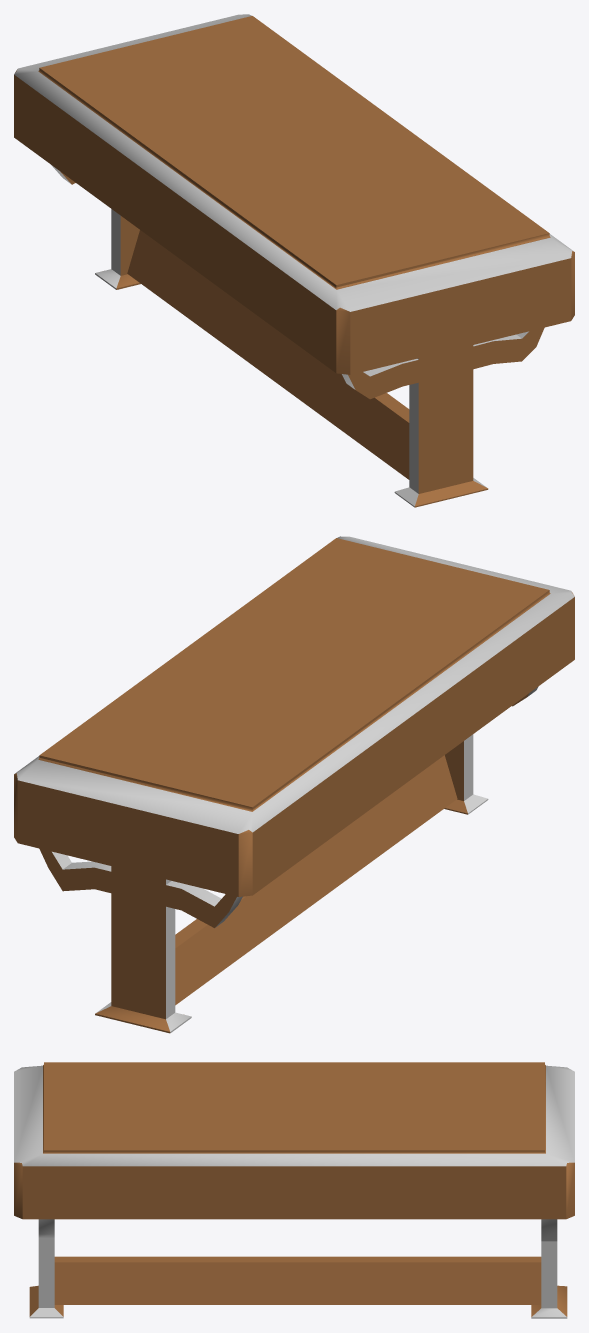
Rendered from Table.fbx.
3 renders of one model, top to bottom at view 1: azimuth 30°, elevation 25°; view 2: azimuth 150°, elevation 25°; view 3: azimuth 270°, elevation 25°, orthographic. The views are drawn at different scales.
Parts seen in each view (by area): view 1: Table; view 2: Table; view 3: Table.
Boxes of the visible parts, x1,y1,x2,y2 form: Table: (14, 14, 574, 507); Table: (14, 536, 574, 1033); Table: (14, 1062, 574, 1318).
Size of the model in its own units: 327 by 305 by 789.
